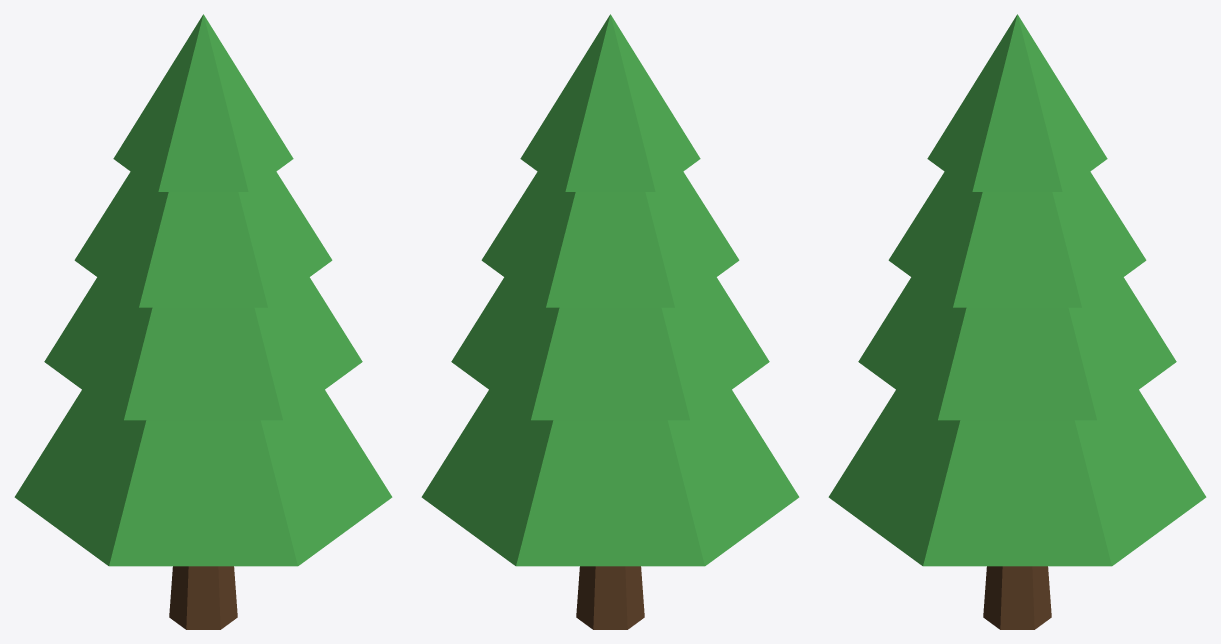
File: Tree_Summer.fbx
The picture shows the model from 3 angles, left to right: view 1: azimuth 30°, elevation 25°; view 2: azimuth 150°, elevation 25°; view 3: azimuth 270°, elevation 25°; orthographic projection.
Parts seen in each view (by area): view 1: Tree_Summer; view 2: Tree_Summer; view 3: Tree_Summer.
Part boxes in pixels (x1,y1,x2,y2): Tree_Summer: (14,14,392,629); Tree_Summer: (421,14,799,629); Tree_Summer: (828,14,1206,629).
Size of the model in its own units: 175 by 357 by 203.
